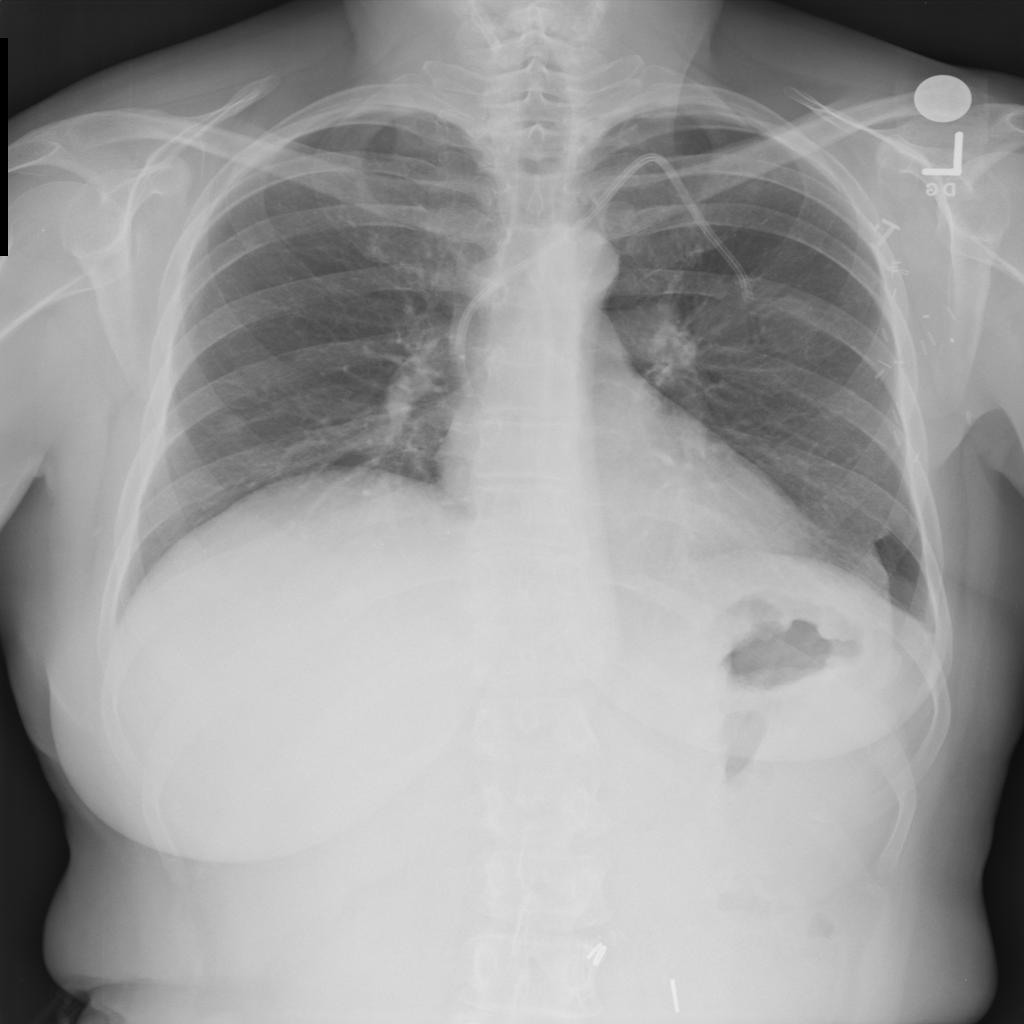nodule: (751, 286, 840, 358), (204, 403, 264, 445)
